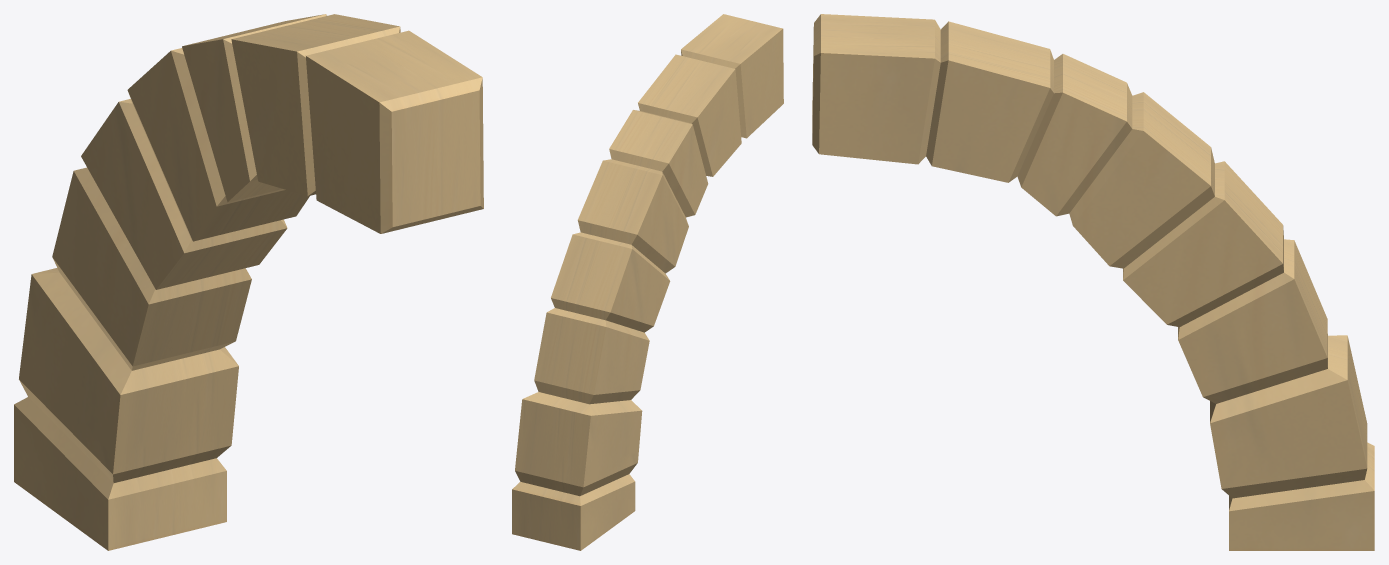
Rendered from RockHalfCircle.FBX.
3 renders of one model, left to right at view 1: azimuth 30°, elevation 25°; view 2: azimuth 150°, elevation 25°; view 3: azimuth 270°, elevation 25°, orthographic. The views are drawn at different scales.
Parts seen in each view (by area): view 1: RockHalfCircle; view 2: RockHalfCircle; view 3: RockHalfCircle.
Boxes of the visible parts, x1,y1,x2,y2 form: RockHalfCircle: (14,14,483,550); RockHalfCircle: (512,14,783,550); RockHalfCircle: (812,14,1374,550).
Size of the model in its own units: 4 by 21.21 by 20.6.
Materials: 1 (1 with a texture image).
